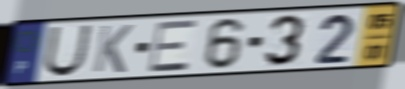2: (310, 10, 360, 68)
3: (262, 12, 309, 68)
6: (201, 16, 247, 71)
E: (147, 18, 199, 74)
K: (91, 23, 136, 75)
U: (41, 23, 94, 79)
